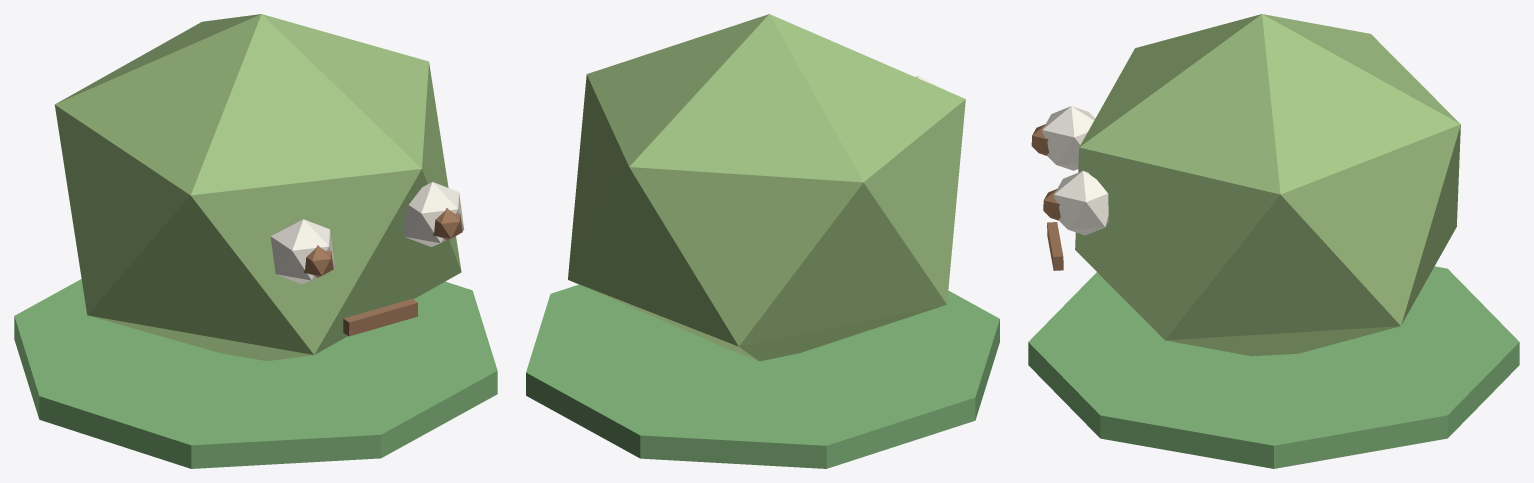
File: npcpose_slime_idle_01.glb
The picture shows the model from 3 angles, left to right: view 1: azimuth 30°, elevation 25°; view 2: azimuth 150°, elevation 25°; view 3: azimuth 270°, elevation 25°; orthographic projection.
Parts seen in each view (by area): view 1: npcpose; view 2: npcpose; view 3: npcpose.
Boxes of the visible parts, x1,y1,x2,y2 form: npcpose: (14, 14, 497, 468); npcpose: (526, 14, 999, 468); npcpose: (1028, 14, 1519, 468).
Bounding box in the file's own units: 0.96 × 0.7568 × 0.96.
